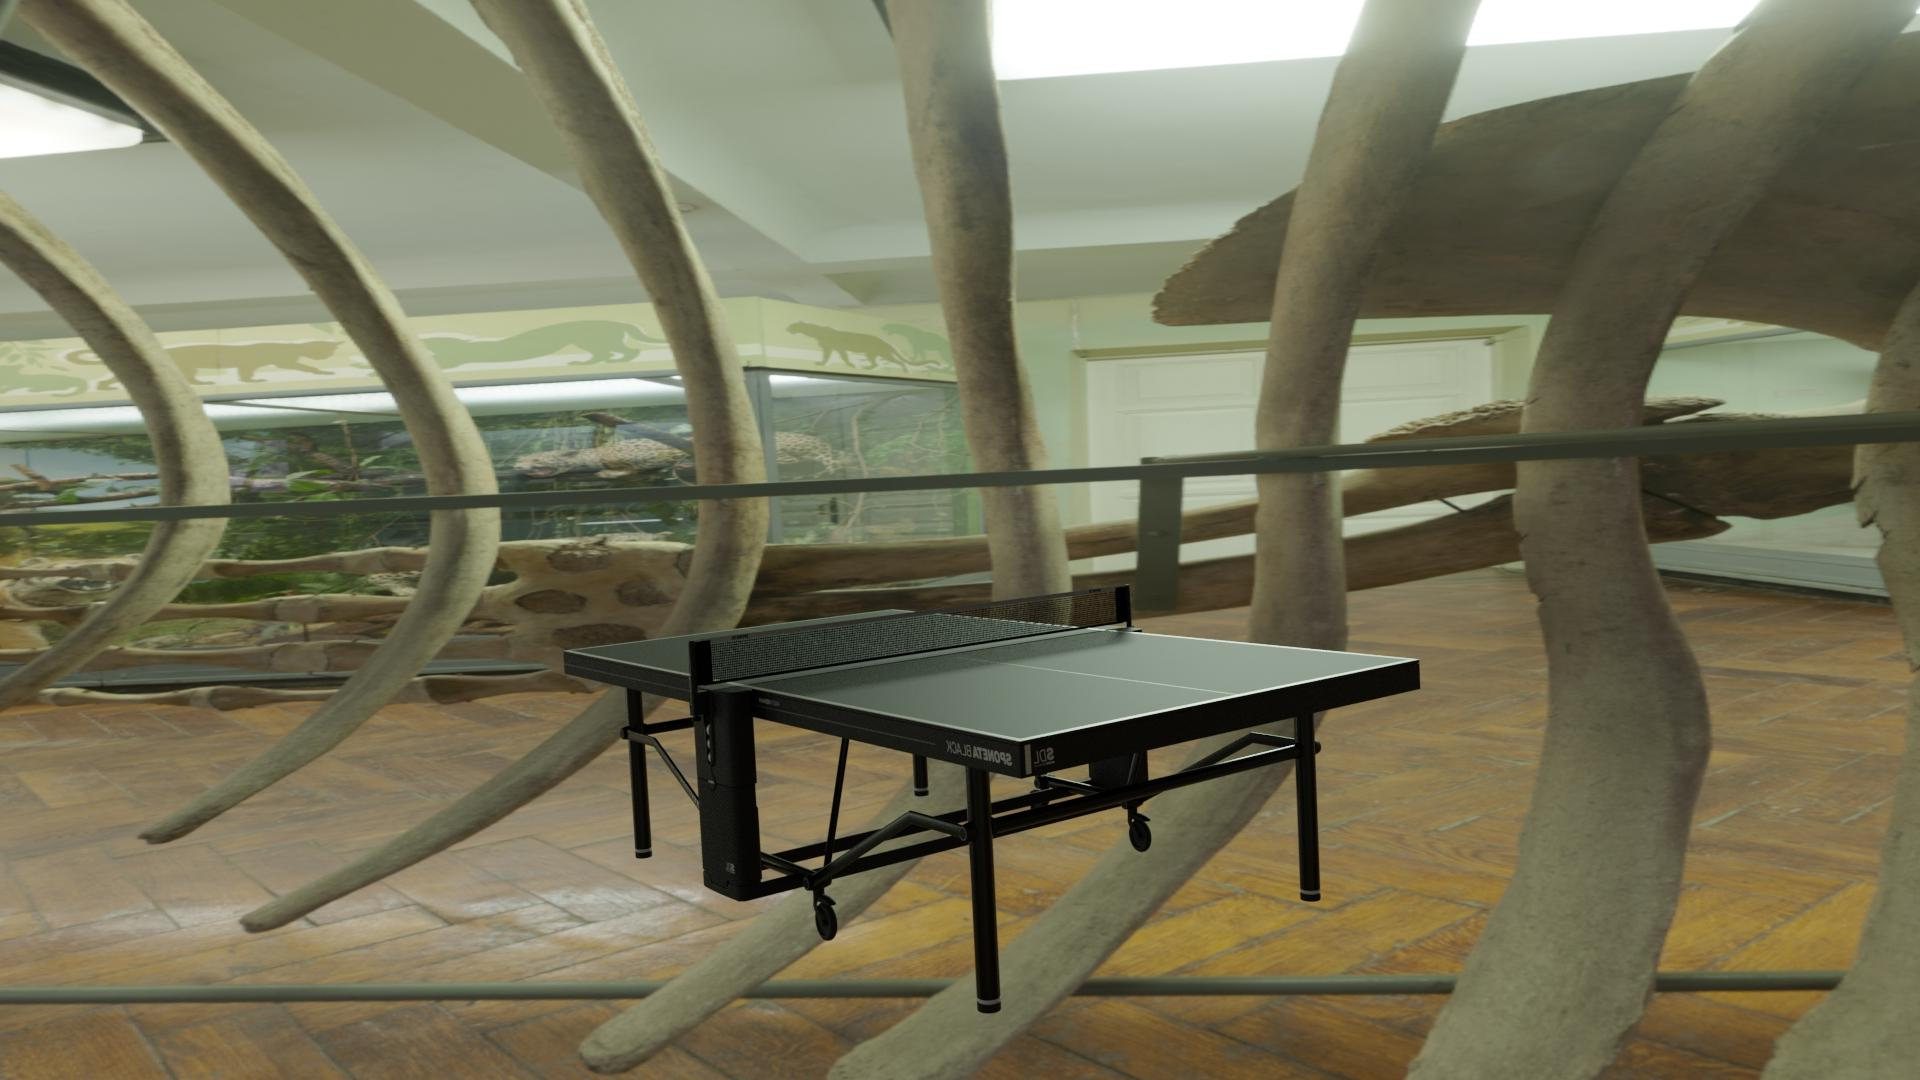table: (570, 611, 1410, 738)
